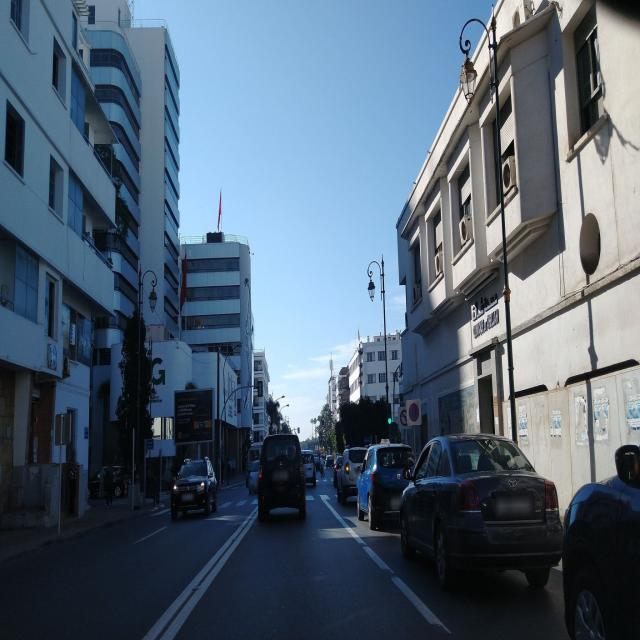forb_stopping: (408, 402, 420, 423)
